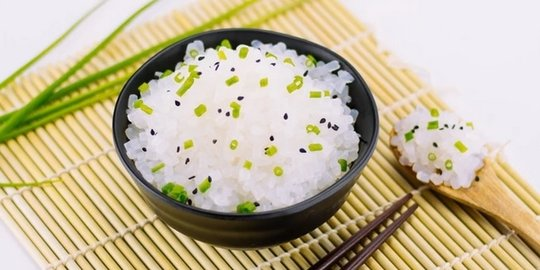Nasi Putih: (126, 39, 373, 205)
